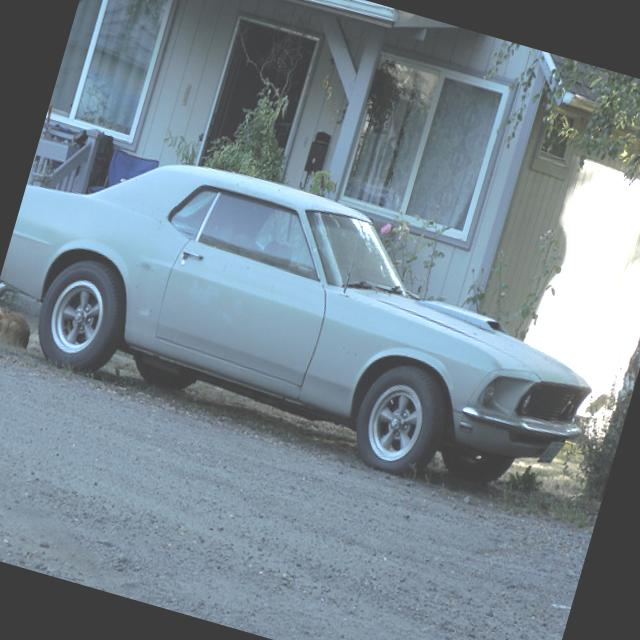Vehicle: (0, 113, 621, 519)
